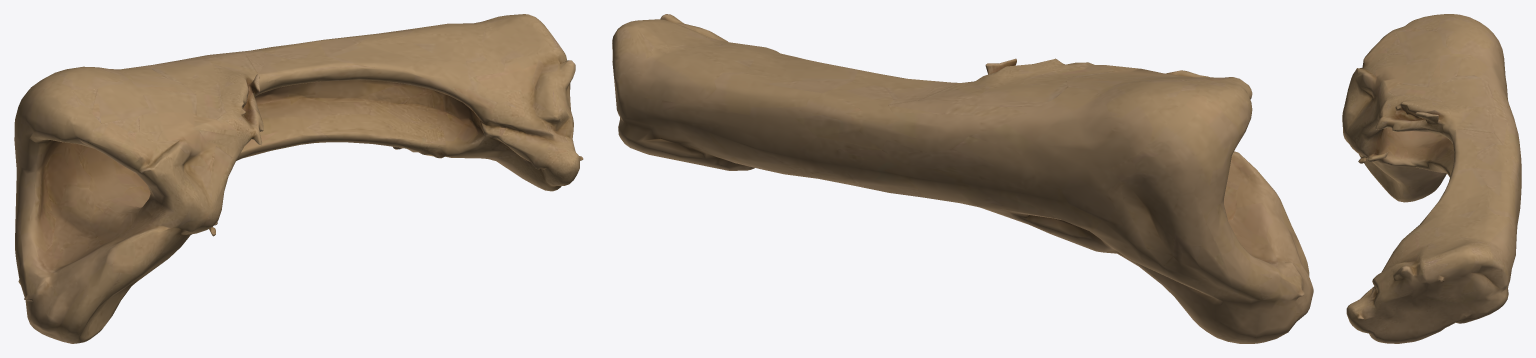
Rendered from femur.glb.
The picture shows the model from 3 angles, left to right: view 1: azimuth 30°, elevation 25°; view 2: azimuth 150°, elevation 25°; view 3: azimuth 270°, elevation 25°; orthographic projection. The views are drawn at different scales.
Visible parts, largest first — view 1: Mesh_0; view 2: Mesh_0; view 3: Mesh_0.
Boxes of the visible parts, x1=… form: Mesh_0: x1=14, y1=14, x2=583, y2=343; Mesh_0: x1=612, y1=14, x2=1313, y2=343; Mesh_0: x1=1342, y1=14, x2=1521, y2=343.
Bounding box in the file's own units: 1.9 × 0.7477 × 0.6518.
Materials: 1 (1 with a texture image).
